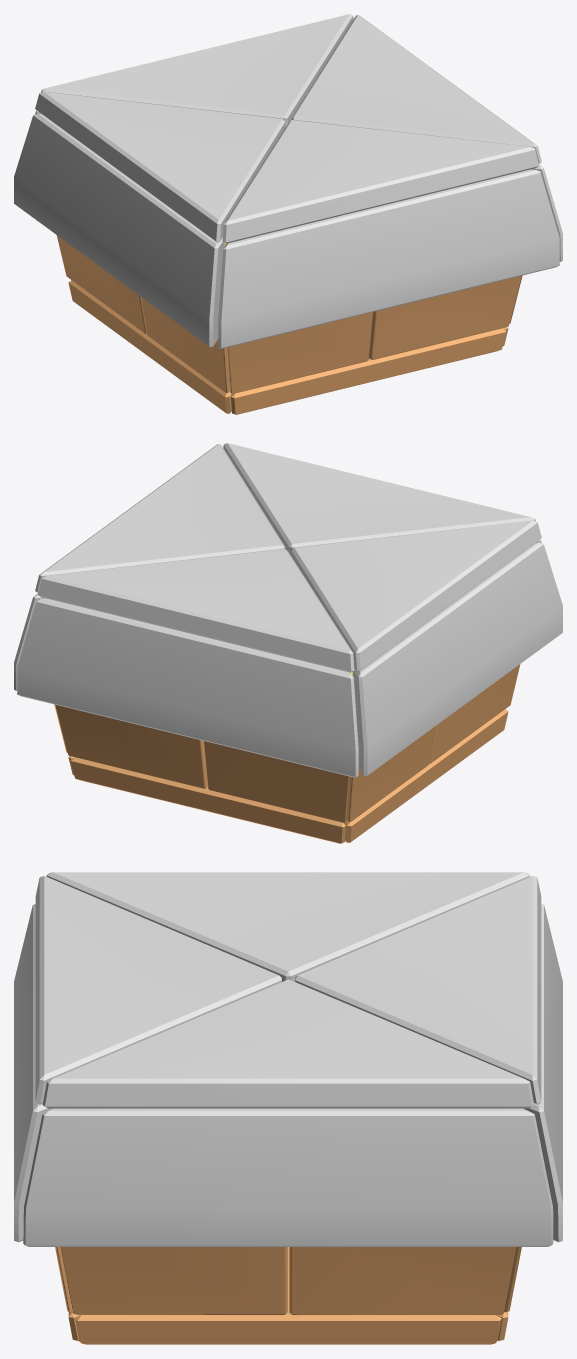
The model's file is Lv_152_Takoyaki_17.fbx.
The picture shows the model from 3 angles, top to bottom: view 1: azimuth 30°, elevation 25°; view 2: azimuth 150°, elevation 25°; view 3: azimuth 270°, elevation 25°; orthographic projection. The views are drawn at different scales.
Parts seen in each view (by area): view 1: Takoyaki_48, Takoyaki_49, Takoyaki_52, Takoyaki_53, Takoyaki_05, Takoyaki_51, Takoyaki_41, Takoyaki_56, Takoyaki_58, Takoyaki_59, Takoyaki_34, Takoyaki_06; view 2: Takoyaki_50, Takoyaki_49, Takoyaki_05, Takoyaki_53, Takoyaki_52, Takoyaki_51, Takoyaki_54, Takoyaki_40, Takoyaki_07, Takoyaki_59, Takoyaki_06, Takoyaki_34; view 3: Takoyaki_33, Takoyaki_51, Takoyaki_05, Takoyaki_52, Takoyaki_53, Takoyaki_39, Takoyaki_55, Takoyaki_57, Takoyaki_48, Takoyaki_50.
Part boxes in pixels (x1=…): Takoyaki_48: x1=218, y1=169, x2=559, y2=348; Takoyaki_49: x1=14, y1=113, x2=224, y2=347; Takoyaki_52: x1=222, y1=120, x2=539, y2=243; Takoyaki_53: x1=35, y1=91, x2=285, y2=242; Takoyaki_05: x1=41, y1=14, x2=353, y2=127; Takoyaki_51: x1=291, y1=15, x2=541, y2=163; Takoyaki_41: x1=369, y1=275, x2=521, y2=360; Takoyaki_56: x1=227, y1=312, x2=373, y2=393; Takoyaki_58: x1=231, y1=328, x2=505, y2=414; Takoyaki_59: x1=68, y1=280, x2=232, y2=413; Takoyaki_34: x1=141, y1=297, x2=229, y2=393; Takoyaki_06: x1=56, y1=235, x2=147, y2=334; Takoyaki_50: x1=17, y1=598, x2=358, y2=777; Takoyaki_49: x1=352, y1=542, x2=562, y2=776; Takoyaki_05: x1=37, y1=549, x2=354, y2=672; Takoyaki_53: x1=291, y1=520, x2=541, y2=671; Takoyaki_52: x1=223, y1=443, x2=535, y2=556; Takoyaki_51: x1=35, y1=444, x2=285, y2=592; Takoyaki_54: x1=55, y1=705, x2=207, y2=789; Takoyaki_40: x1=203, y1=741, x2=349, y2=822; Takoyaki_07: x1=71, y1=757, x2=345, y2=843; Takoyaki_59: x1=344, y1=709, x2=508, y2=842; Takoyaki_06: x1=347, y1=726, x2=435, y2=821; Takoyaki_34: x1=429, y1=664, x2=520, y2=763; Takoyaki_33: x1=23, y1=1108, x2=553, y2=1246; Takoyaki_51: x1=42, y1=979, x2=533, y2=1108; Takoyaki_05: x1=295, y1=876, x2=541, y2=1104; Takoyaki_52: x1=35, y1=876, x2=281, y2=1104; Takoyaki_53: x1=46, y1=872, x2=530, y2=981; Takoyaki_39: x1=289, y1=1247, x2=516, y2=1315; Takoyaki_55: x1=60, y1=1247, x2=287, y2=1315; Takoyaki_57: x1=75, y1=1247, x2=501, y2=1344; Takoyaki_48: x1=14, y1=904, x2=52, y2=1242; Takoyaki_50: x1=524, y1=904, x2=562, y2=1242.
Size of the model in its own units: 5.39 by 3.03 by 5.39.
